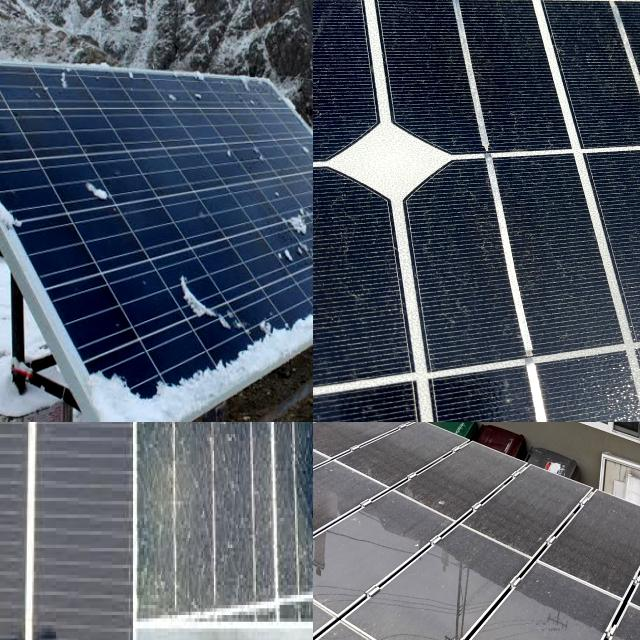crack: (313, 0, 640, 422)
dust: (407, 472, 555, 592), (313, 422, 407, 569), (478, 559, 553, 640), (567, 506, 634, 590)
panel: (85, 361, 198, 422), (207, 350, 284, 404), (176, 270, 239, 332), (276, 192, 313, 285), (71, 172, 132, 210), (247, 303, 300, 345), (158, 82, 220, 115), (210, 143, 287, 169), (46, 80, 104, 105), (232, 77, 272, 110), (0, 84, 23, 104), (303, 127, 313, 162)
shadow: (0, 473, 37, 640), (251, 422, 313, 495)
